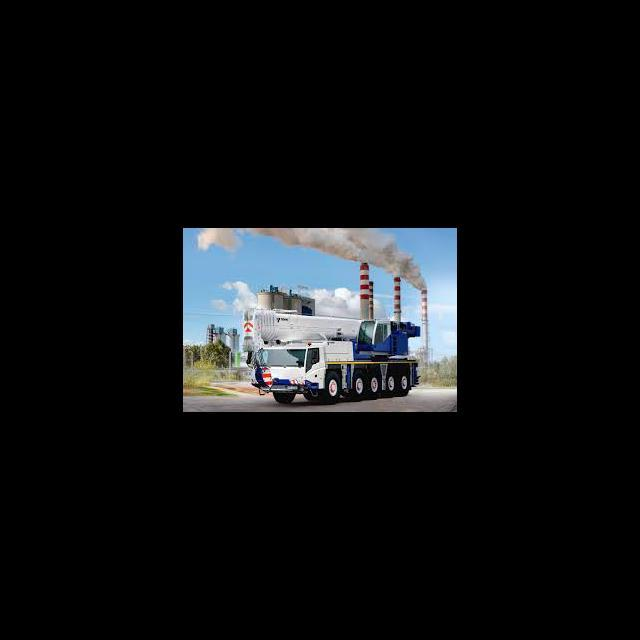Smoke: (249, 228, 428, 289), (197, 228, 242, 254), (316, 288, 356, 315)
